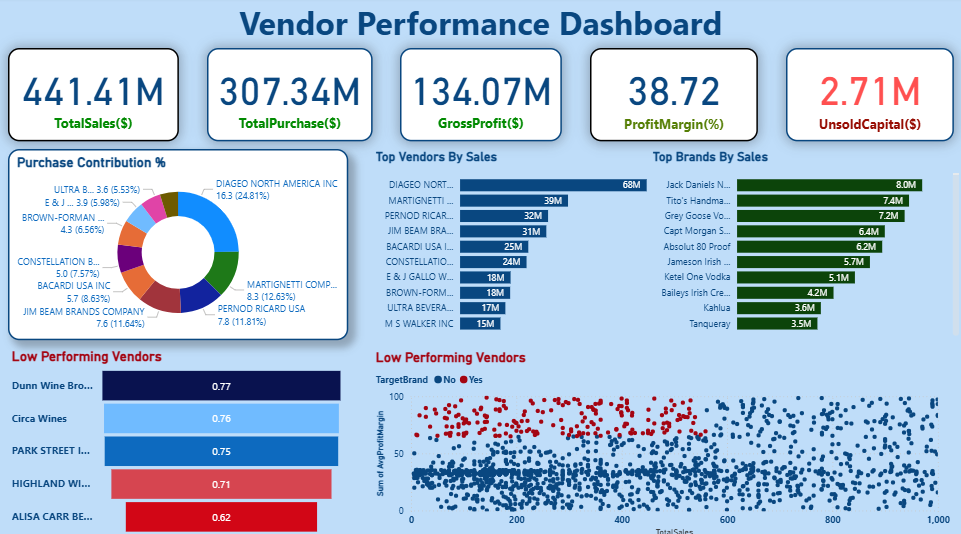

This screenshot's page, from the dashboard's own definition file:
{"tool":"powerbi","page":{"name":"Page 1","canvas":[1280,720],"ordinal":0},"visuals":[{"type":"group","id":"g1","title":"Group 1","box":[11.8,67.2,1256.5,124.3],"z":0},{"type":"card","fields":{"Values":["Sum(public vendor_sales_summary.TotalSalesDollars)"]},"box":[11.8,67.2,226.8,124.3],"z":0,"group":"g1"},{"type":"card","fields":{"Values":["Sum(public vendor_sales_summary.TotalPurchaseDollars)"]},"box":[275.5,67.2,220.1,124.3],"z":1000,"group":"g1"},{"type":"donutChart","title":"Purchase Contribution %","fields":{"Category":["PurchaseContribution.VendorName"],"Y":["Sum(PurchaseContribution.PurchaseContribution%)"]},"box":[11.8,201.6,451.9,253.6],"z":1000},{"type":"card","fields":{"Values":["Sum(public vendor_sales_summary.GrossProfit)"]},"box":[532.5,67.2,215,124.3],"z":2000,"group":"g1"},{"type":"clusteredBarChart","title":"Top Vendors By Sales","fields":{"Category":["public vendor_sales_summary.VendorName"],"Y":["Sum(public vendor_sales_summary.TotalSalesDollars)"]},"box":[495,201.7,416.7,253.3],"z":2000},{"type":"card","fields":{"Values":["Avg(public vendor_sales_summary.ProfitMargin)"]},"box":[784.5,67.2,223.4,124.3],"z":3000,"group":"g1"},{"type":"clusteredBarChart","title":"Top Brands By Sales","fields":{"Category":["public vendor_sales_summary.Description"],"Y":["Sum(public vendor_sales_summary.TotalSalesDollars)"]},"box":[863.3,201.7,416.7,253.3],"z":3000},{"type":"card","fields":{"Values":["Sum(public vendor_sales_summary.UnsoldCapital)"]},"box":[1044.9,67.2,223.4,124.3],"z":4000,"group":"g1"},{"type":"funnel","title":"Low Performing Vendors","fields":{"Category":["LowTurnoverVendor.VendorName"],"Y":["Avg(LowTurnoverVendor.AvgStockTurnOver)"]},"box":[11.7,466.7,451.7,253.3],"z":4000},{"type":"scatterChart","title":"Low Performing Vendors","fields":{"Category":["BrandPerformance.Description"],"X":["Sum(BrandPerformance.TotalSales)"],"Y":["Sum(BrandPerformance.AvgProfitMargin)"],"Series":["BrandPerformance.TargetBrand"]},"box":[495.5,467,772.7,253.6],"z":5000},{"type":"textbox","box":[0,0,1280,67.2],"z":6000}]}

Visuals, with their boxes in screenshot pixels (x1, y1, x2, y2), scaled from the page's 1280x720 canvas onto the 961x534 screenshot:
"Group 1" group: Rect(9, 50, 952, 142)
card - Sum(public vendor_sales_summary.TotalSalesDollars): Rect(9, 50, 179, 142)
card - Sum(public vendor_sales_summary.TotalPurchaseDollars): Rect(207, 50, 372, 142)
"Purchase Contribution %" donutChart: Rect(9, 150, 348, 338)
card - Sum(public vendor_sales_summary.GrossProfit): Rect(400, 50, 561, 142)
"Top Vendors By Sales" clusteredBarChart: Rect(372, 150, 684, 337)
card - Avg(public vendor_sales_summary.ProfitMargin): Rect(589, 50, 757, 142)
"Top Brands By Sales" clusteredBarChart: Rect(648, 150, 960, 337)
card - Sum(public vendor_sales_summary.UnsoldCapital): Rect(784, 50, 952, 142)
"Low Performing Vendors" funnel: Rect(9, 346, 348, 533)
"Low Performing Vendors" scatterChart: Rect(372, 346, 952, 533)
textbox: Rect(0, 0, 960, 50)
